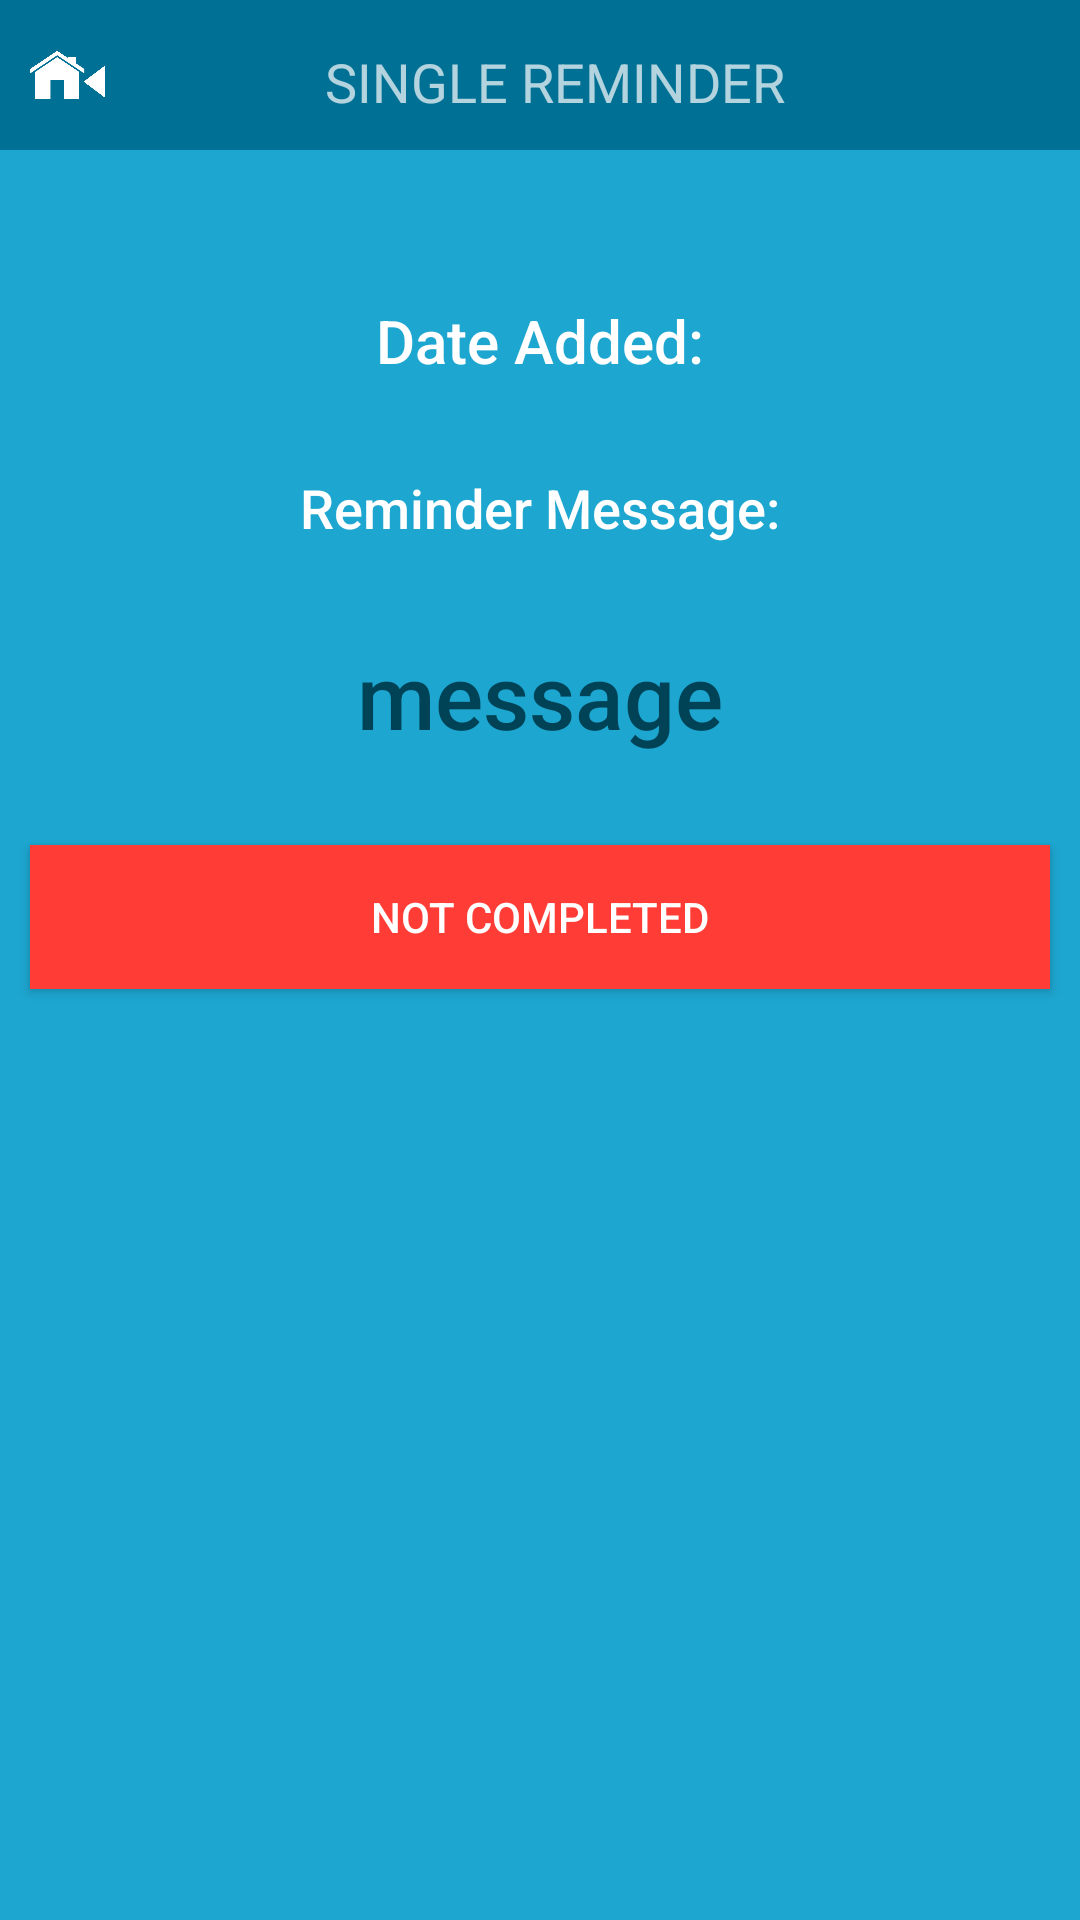

Named icons in this screenshot (1080*1920) and their bounding boxes, bbox(x1, y1, x2, y2):
backicon: bbox(30, 51, 105, 99)
